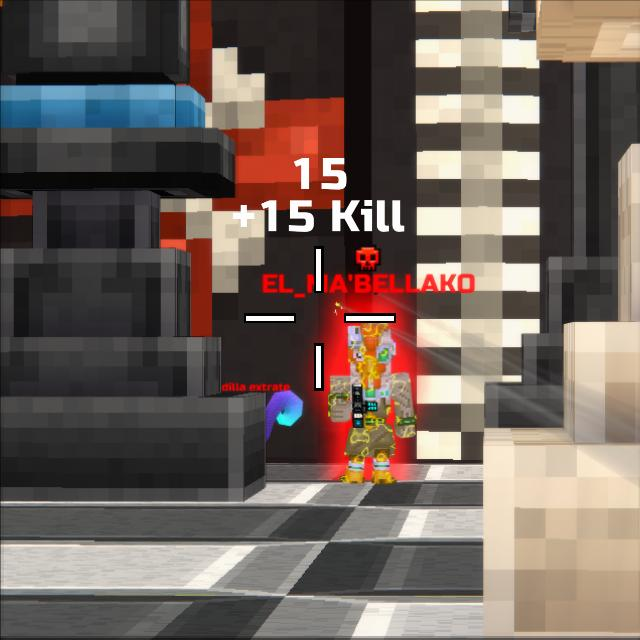Enemy: (328, 326, 418, 484)
